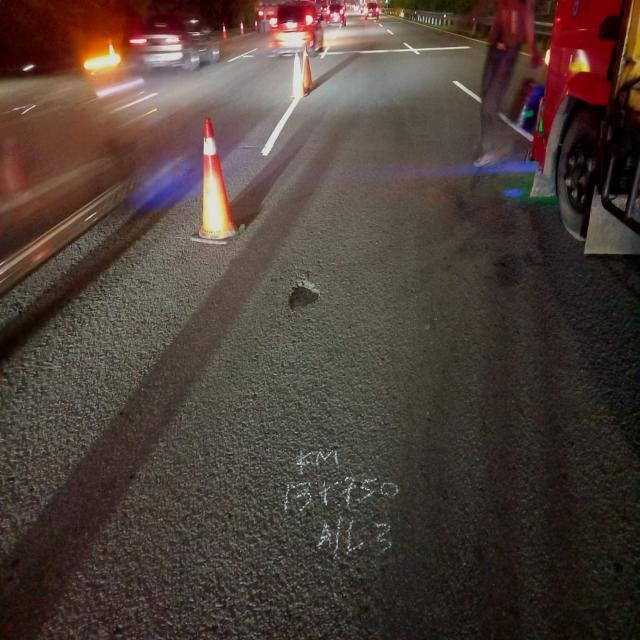Buraco: (282, 279, 326, 314), (179, 166, 198, 178), (237, 144, 259, 152)
